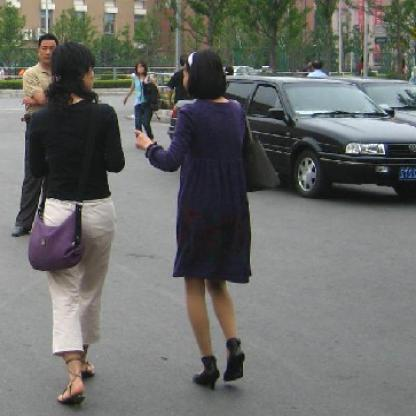ped: (137, 52, 281, 389), (31, 42, 126, 409), (127, 60, 160, 139)
